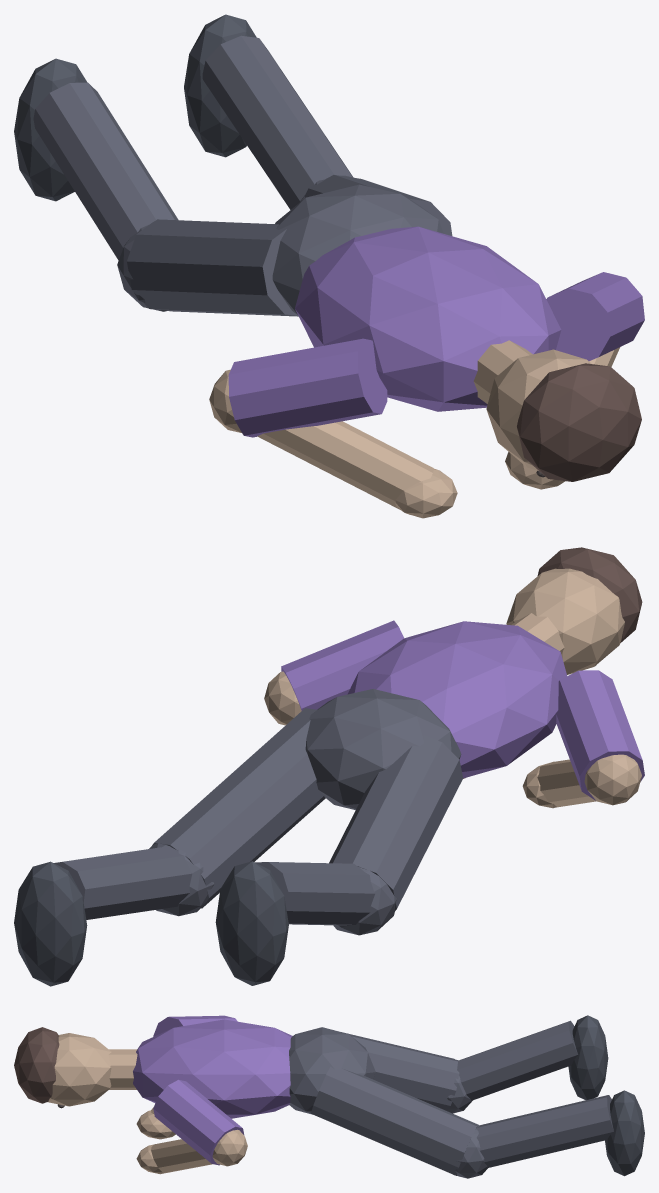
3 views of the same model, one above another, from view 1: azimuth 30°, elevation 25°; view 2: azimuth 150°, elevation 25°; view 3: azimuth 270°, elevation 25° (orthographic). The views are drawn at different scales.
Parts seen in each view (by area): view 1: world; view 2: world; view 3: world.
Part boxes in pixels (x1,y1,x2,y2): world: [14, 14, 644, 518]; world: [14, 547, 644, 986]; world: [14, 1015, 644, 1178].
Bounding box in the file's own units: 0.93 × 0.435 × 2.
